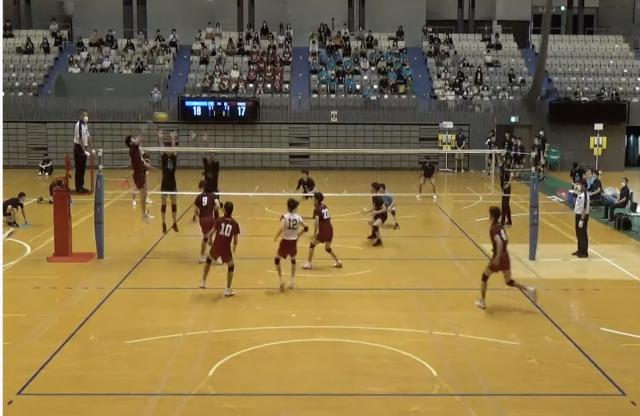spike: (123, 111, 163, 226)
